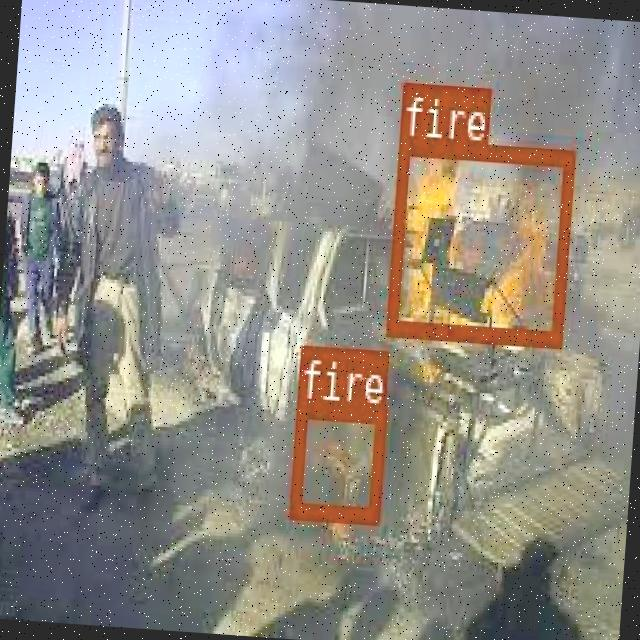fire: (385, 137, 573, 346), (288, 398, 384, 522)
